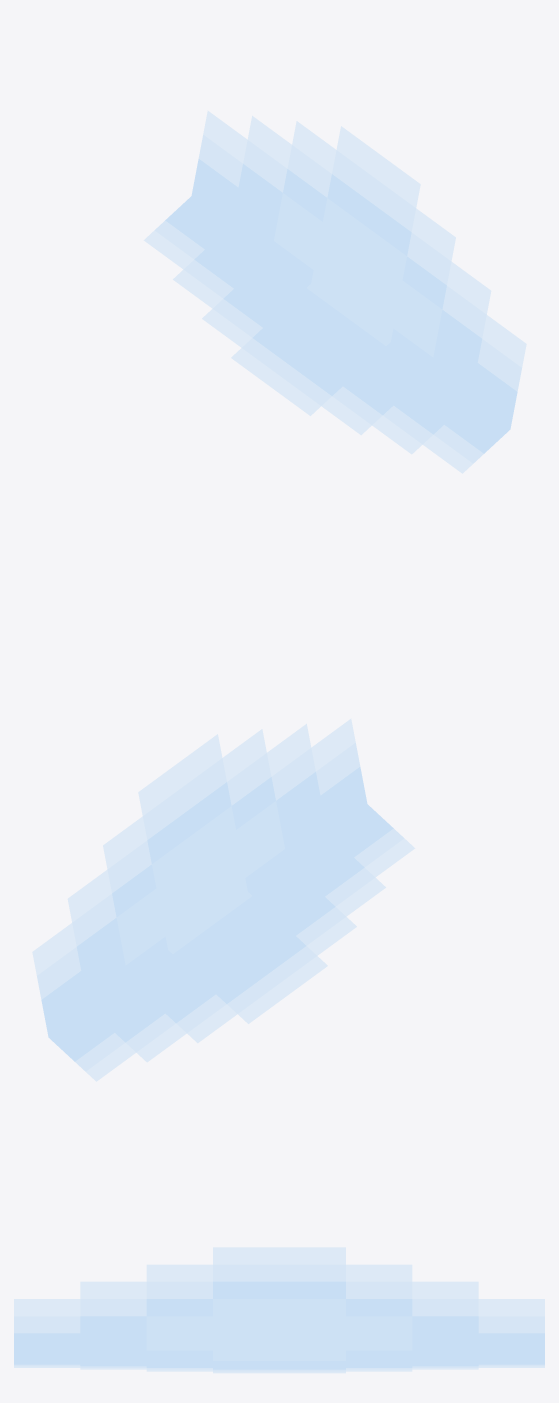
3 renders of one model, top to bottom at view 1: azimuth 30°, elevation 25°; view 2: azimuth 150°, elevation 25°; view 3: azimuth 270°, elevation 25°, orthographic. The views are drawn at different scales.
Bounding box in the file's own units: 0.3838 × 0.5088 × 1.
Materials: 1 (1 with a texture image).
